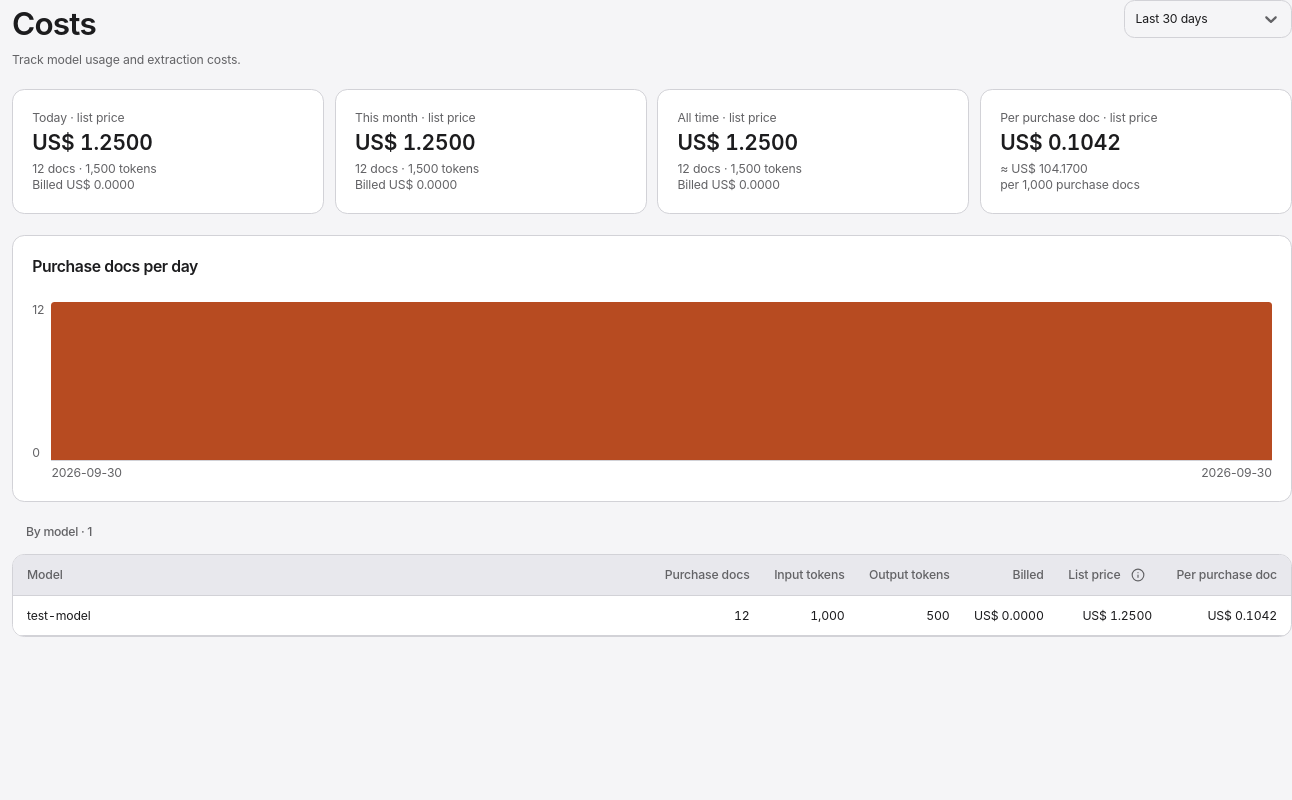
Scenario: renders stats and changes the report with the chosen period
The width and height of the screenshot is (1292, 800).
Expected: the text "test-model" is shown, [27,608,91,623]
Expected: the text "Today · list price" is shown, [32,110,124,124]
Press ArrowDown in the dropdown named "Report period", box [1136,11,1208,26]
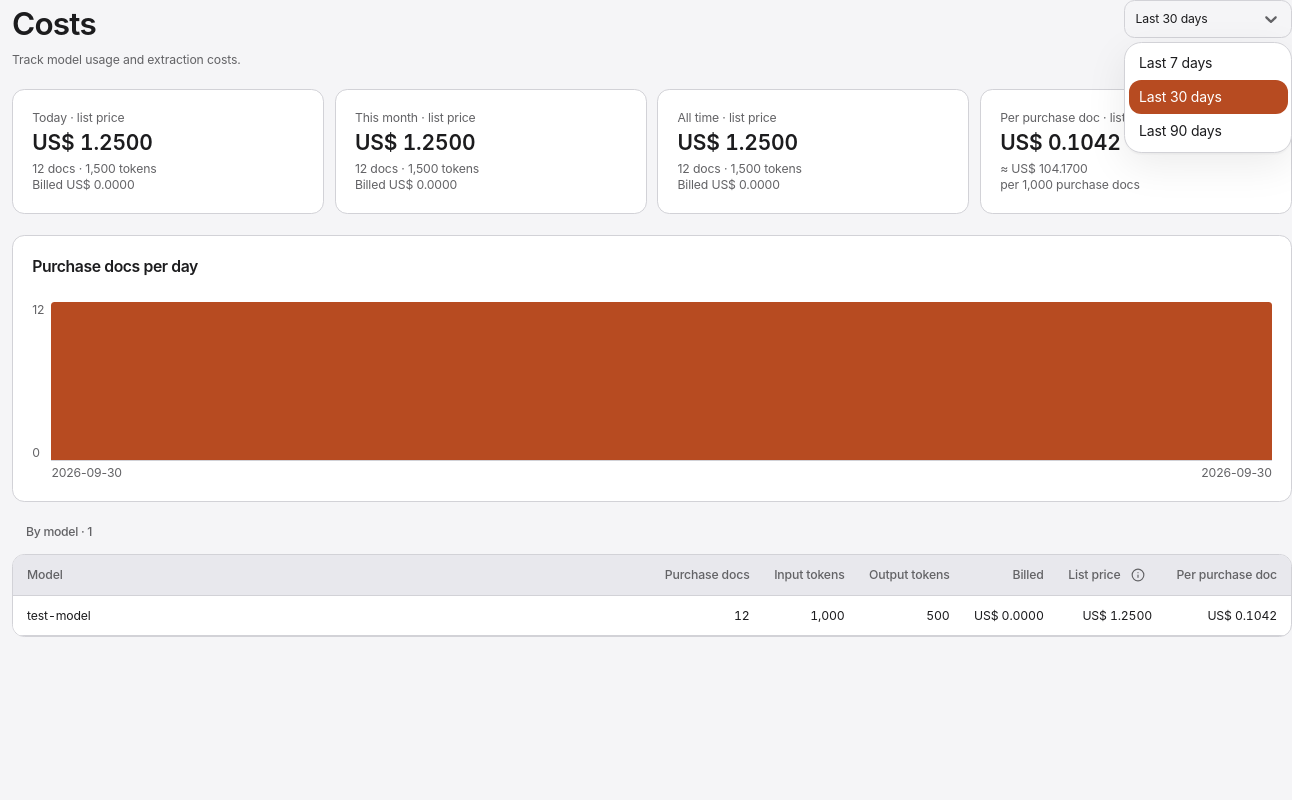
Click the option "Last 7 days". click: (1176, 62)
box: [1139,54,1212,71]
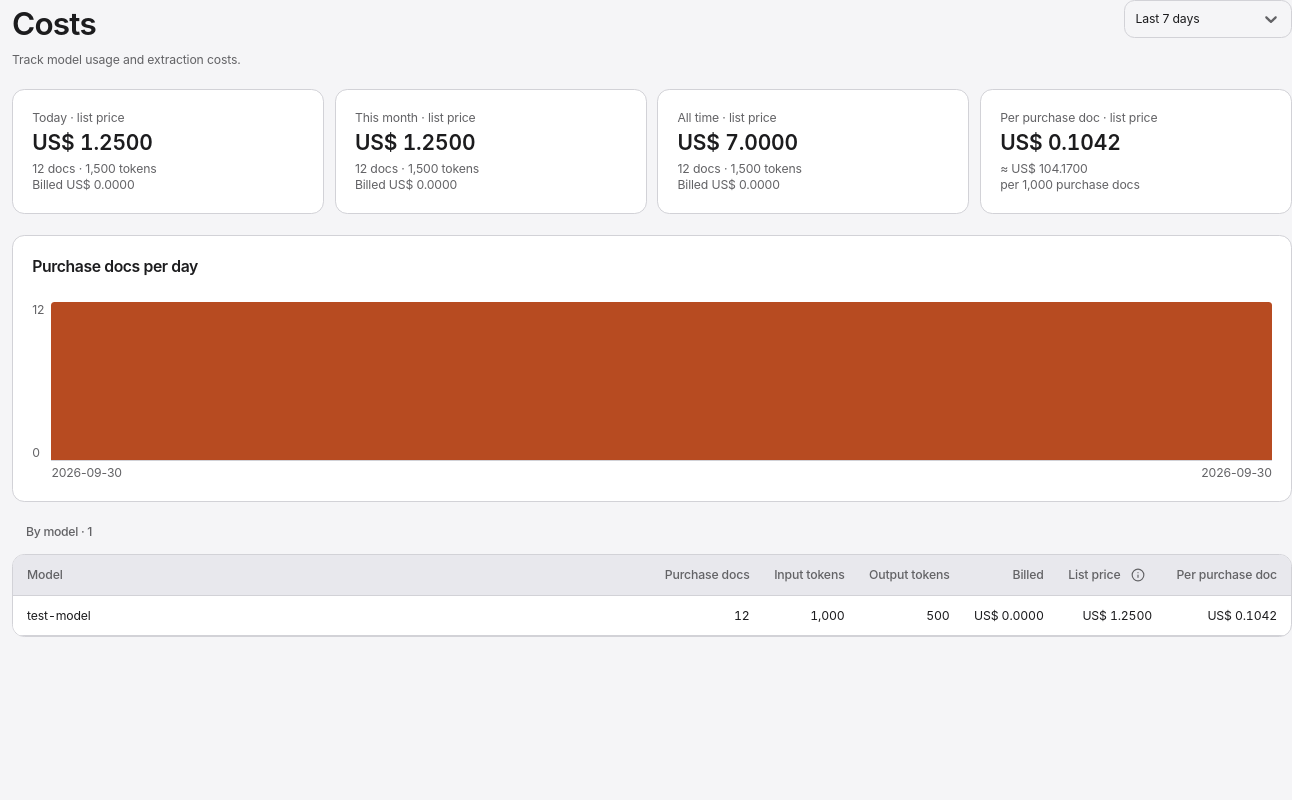
Result: the text "US$ 7.0000" is shown at [678,130,798,155]
